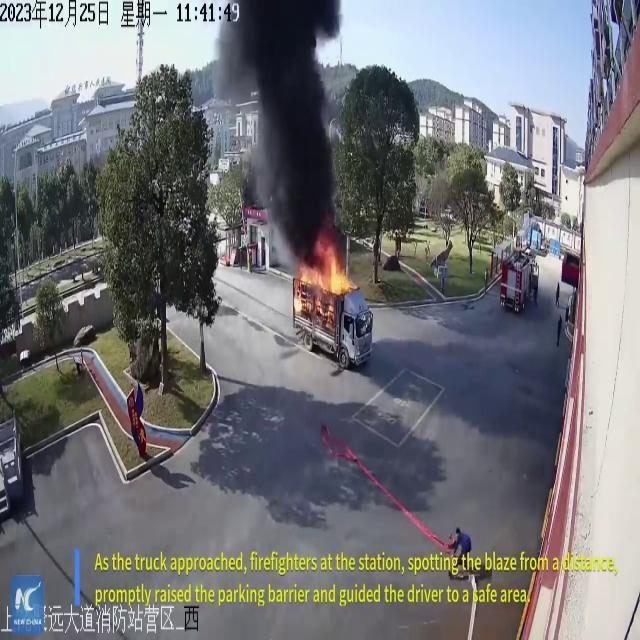Fire: (293, 238, 355, 314)
Smoke: (212, 0, 348, 248)
